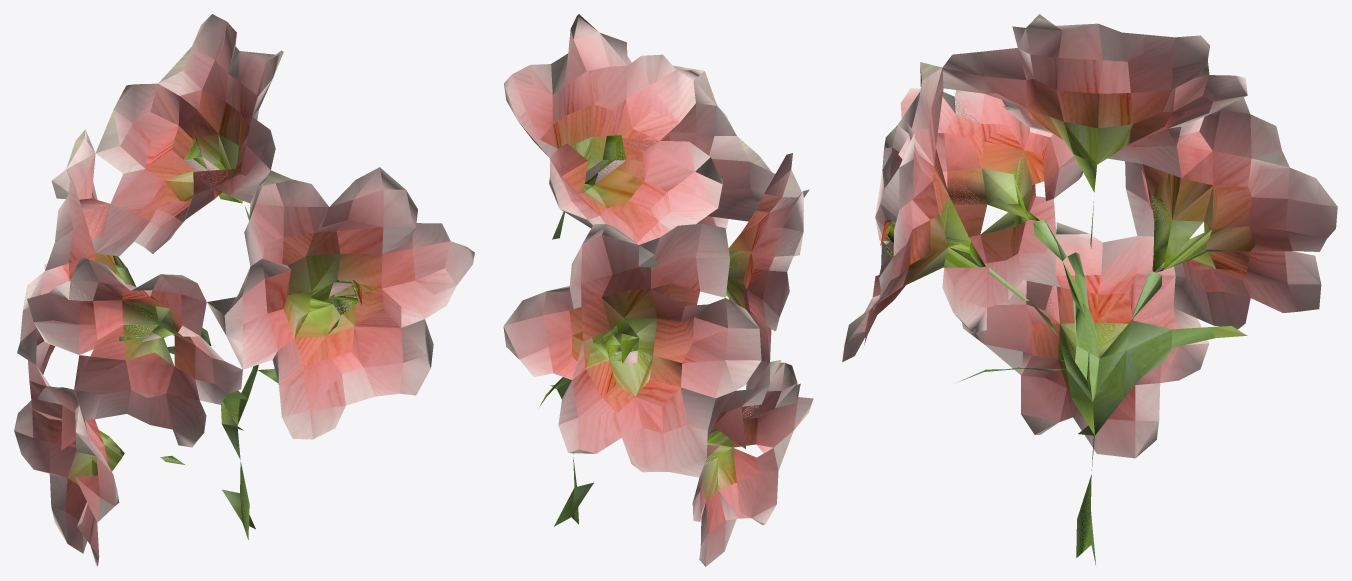
3 renders of one model, left to right at view 1: azimuth 30°, elevation 25°; view 2: azimuth 150°, elevation 25°; view 3: azimuth 270°, elevation 25°, orthographic. The views are drawn at different scales.
Visible parts, largest first — view 1: 79a78278; view 2: 79a78278; view 3: 79a78278.
Boxes of the visible parts, left/top/right/bottom form: 79a78278: left=14, top=14, right=474, bottom=566; 79a78278: left=503, top=14, right=813, bottom=566; 79a78278: left=842, top=14, right=1337, bottom=564.
Size of the model in its own units: 0.1421 by 0.1911 by 0.155.
Materials: 3 (3 with a texture image).
